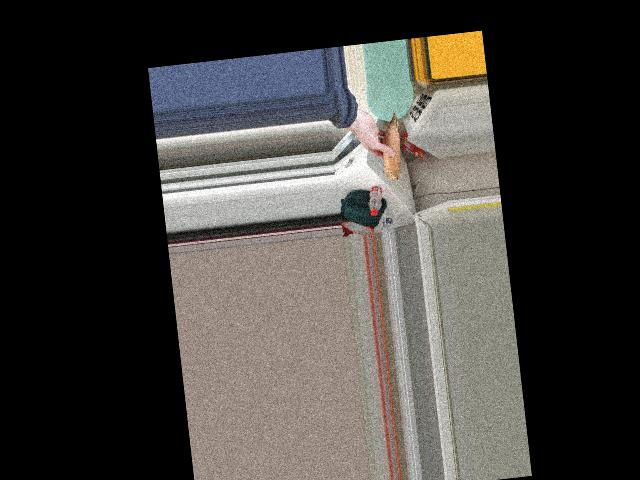sweet_potato: (380, 111, 402, 184)
